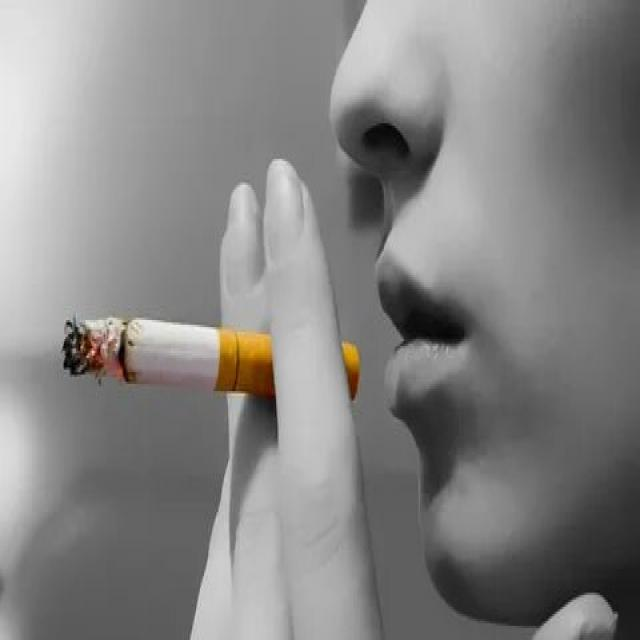cigarette: (59, 313, 362, 400)
